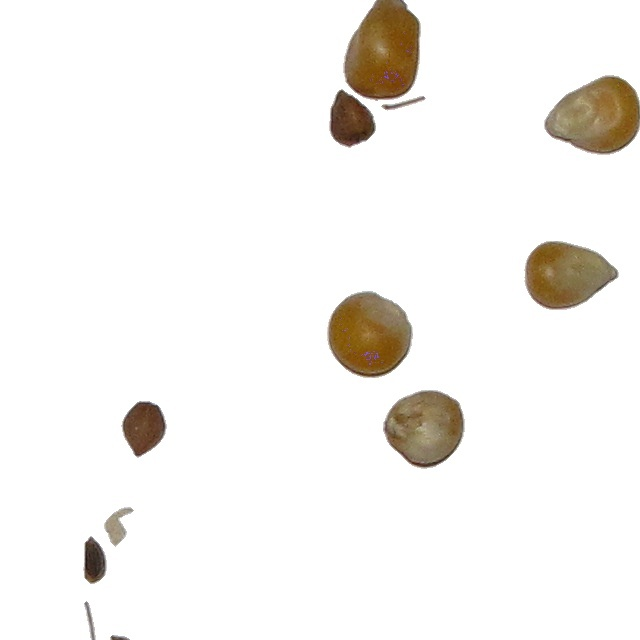buckwheat: (328, 88, 377, 149), (120, 400, 168, 459), (85, 535, 111, 585), (108, 634, 148, 640)
dill: (83, 600, 100, 640)
mais: (543, 74, 640, 156), (326, 290, 414, 379), (523, 240, 620, 311), (382, 389, 466, 470), (380, 95, 427, 112)
other: (103, 506, 135, 548)
